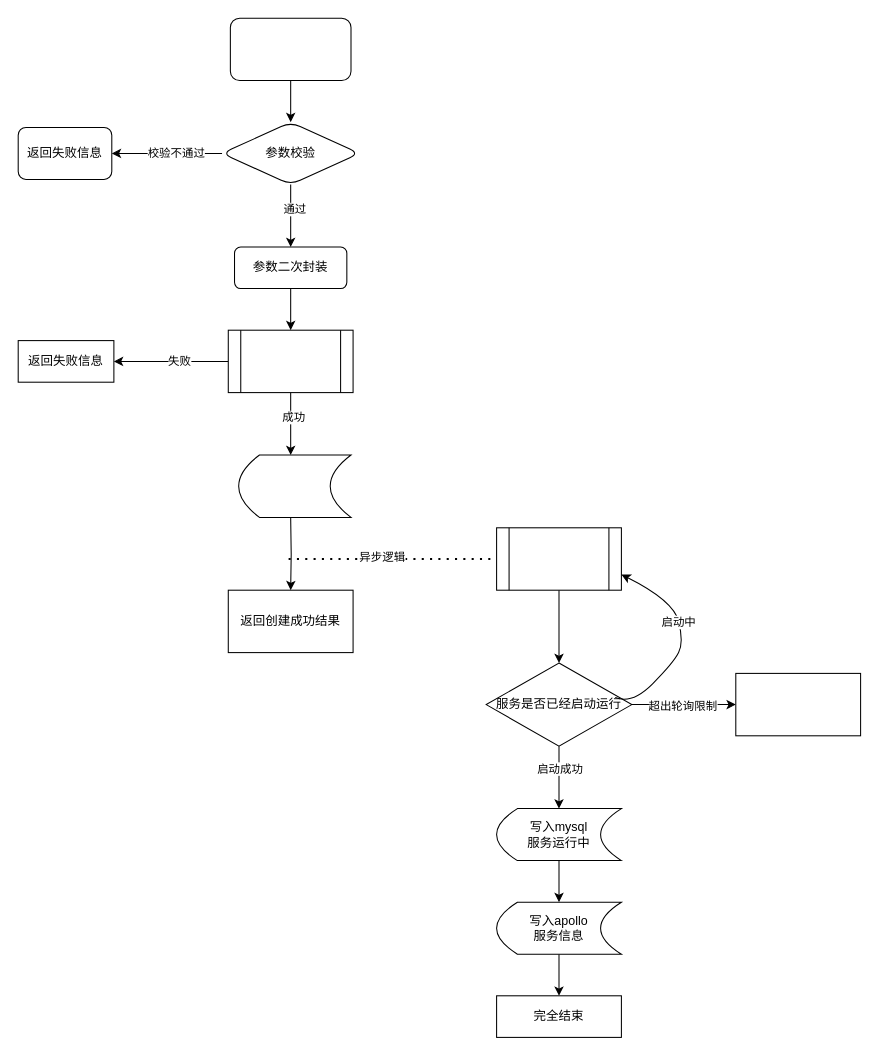
Image size: 879x1056. Some labels were removed from this diagram. The centre of each missing label's shape, as x and y in pixels:
写入mysql 初建状态: point 294,485
创建Pai服务接口: point 290,49
告警结束: point 798,704
调用阿里云sdk 查询服务信息: point 558,558
调用阿里云异步创建服务sdk: point 290,361
